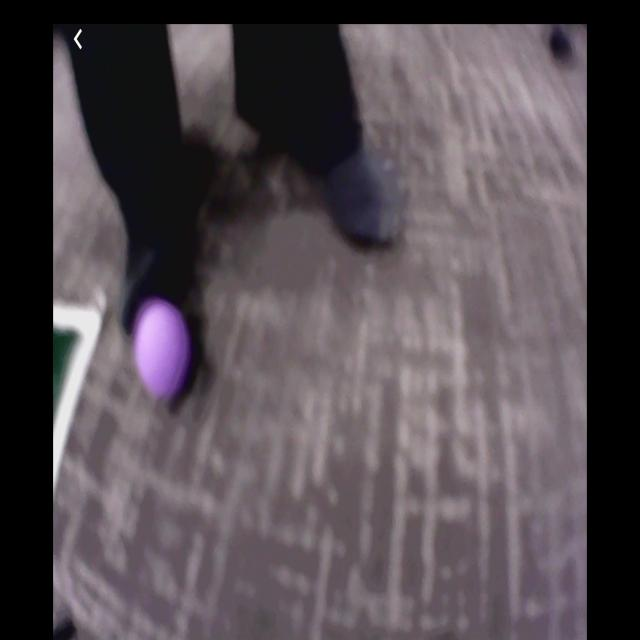ball: (132, 296, 193, 404)
